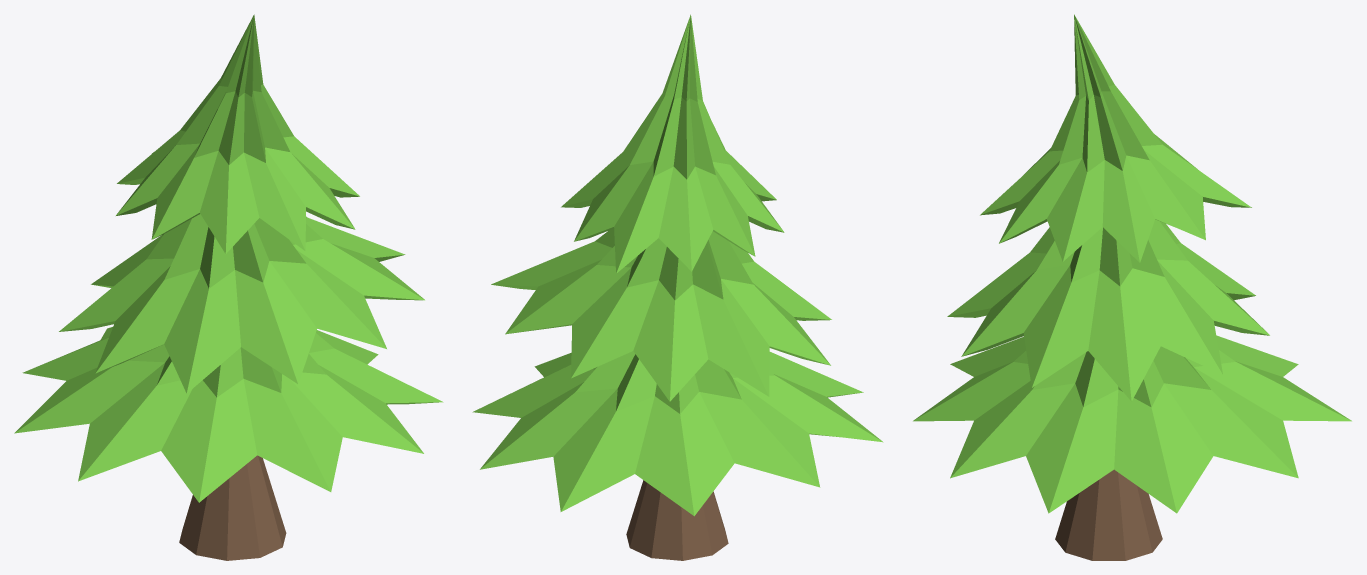
The model's file is Tree.fbx.
3 views of the same model, side by side, from view 1: azimuth 30°, elevation 25°; view 2: azimuth 150°, elevation 25°; view 3: azimuth 270°, elevation 25° (orthographic). The views are drawn at different scales.
Parts seen in each view (by area): view 1: Cylinder.004; view 2: Cylinder.004; view 3: Cylinder.004.
Part boxes in pixels (box(x1,y1,x2,y2)): Cylinder.004: box(14, 14, 443, 560); Cylinder.004: box(472, 14, 883, 560); Cylinder.004: box(913, 14, 1351, 560).
Size of the model in its own units: 191 by 264 by 200.
